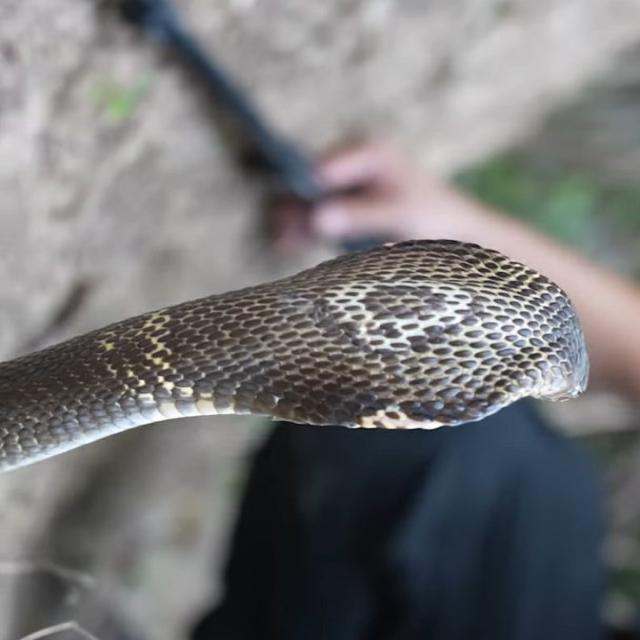Venomous: (206, 235, 596, 428)
